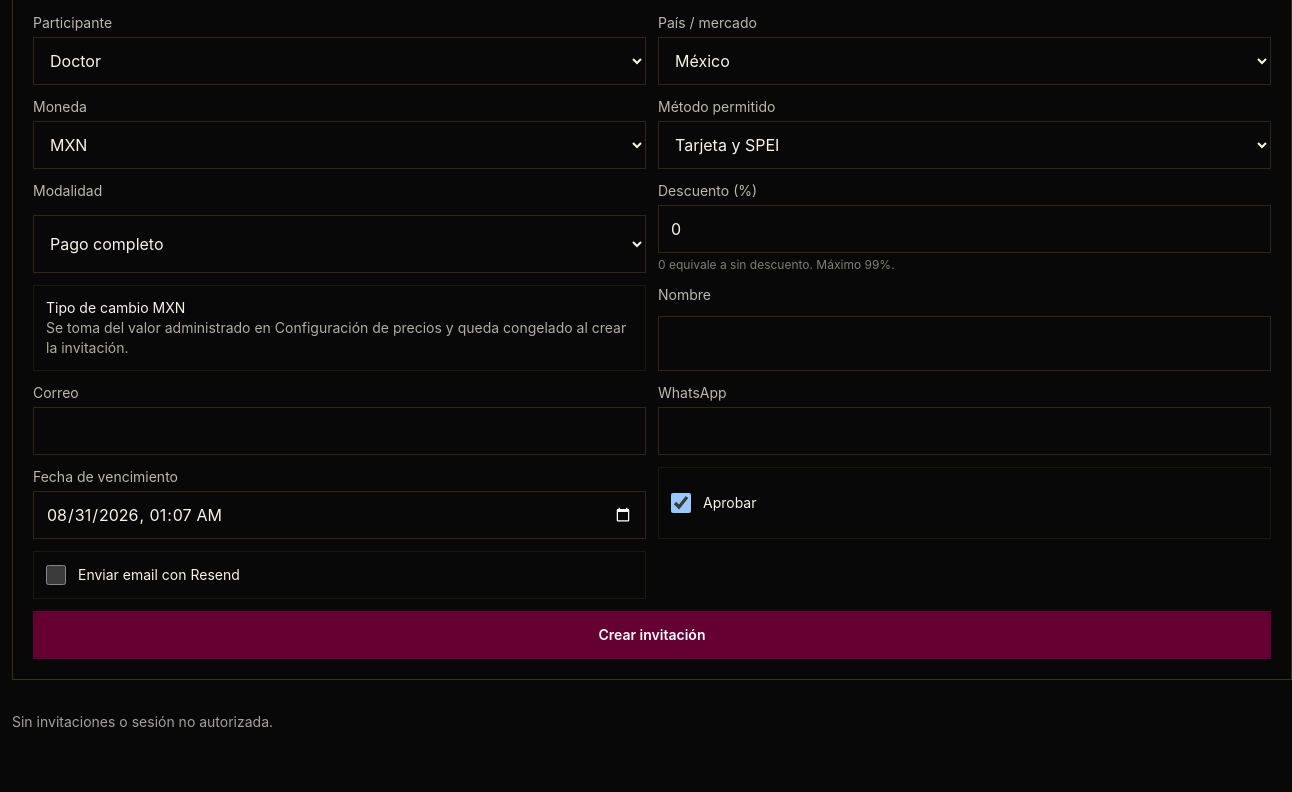
Test: admin components › conserva link cuando Resend falla
Type "Dra Test" into the field labelled "Nombre". click: (964, 344)
box: [658,316,1271,371]
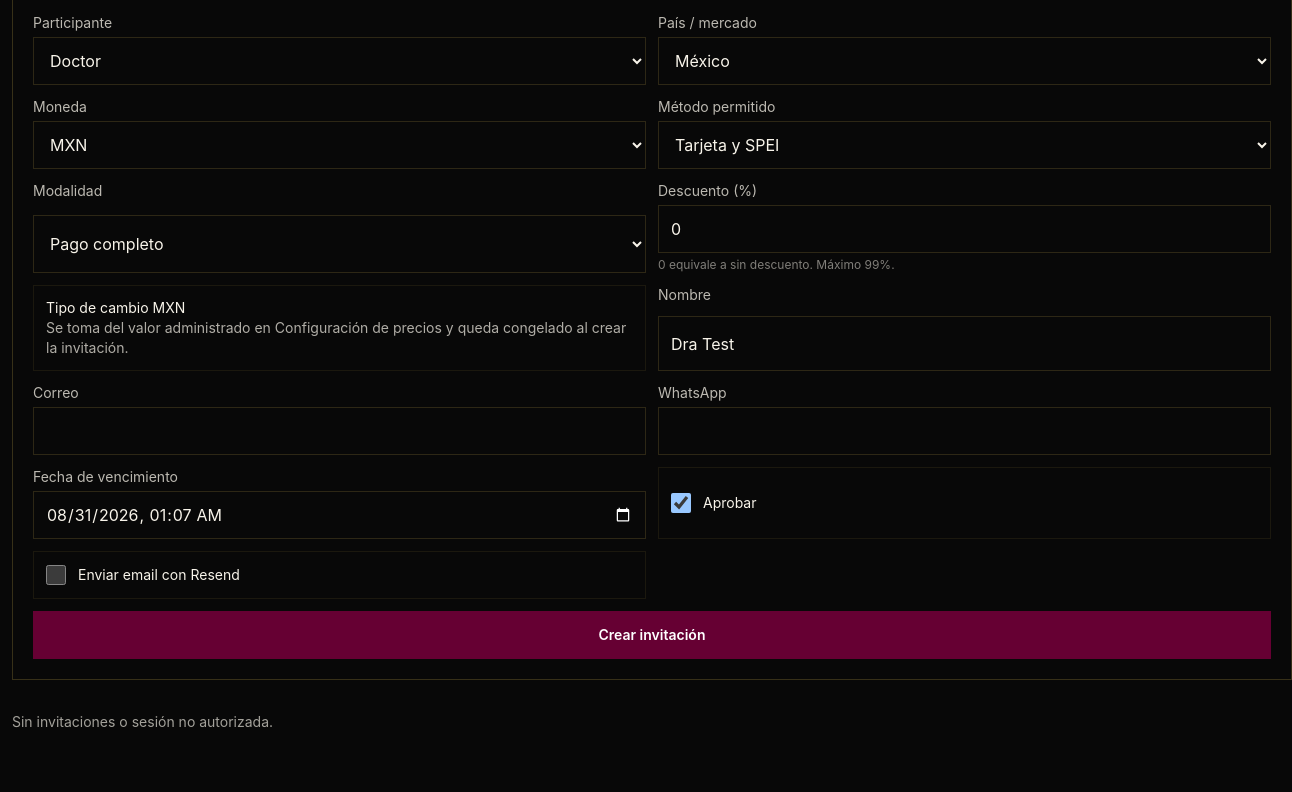
Type "yoanna@example.com" into the field labelled "Correo". click: (340, 431)
box: [33,407,646,455]
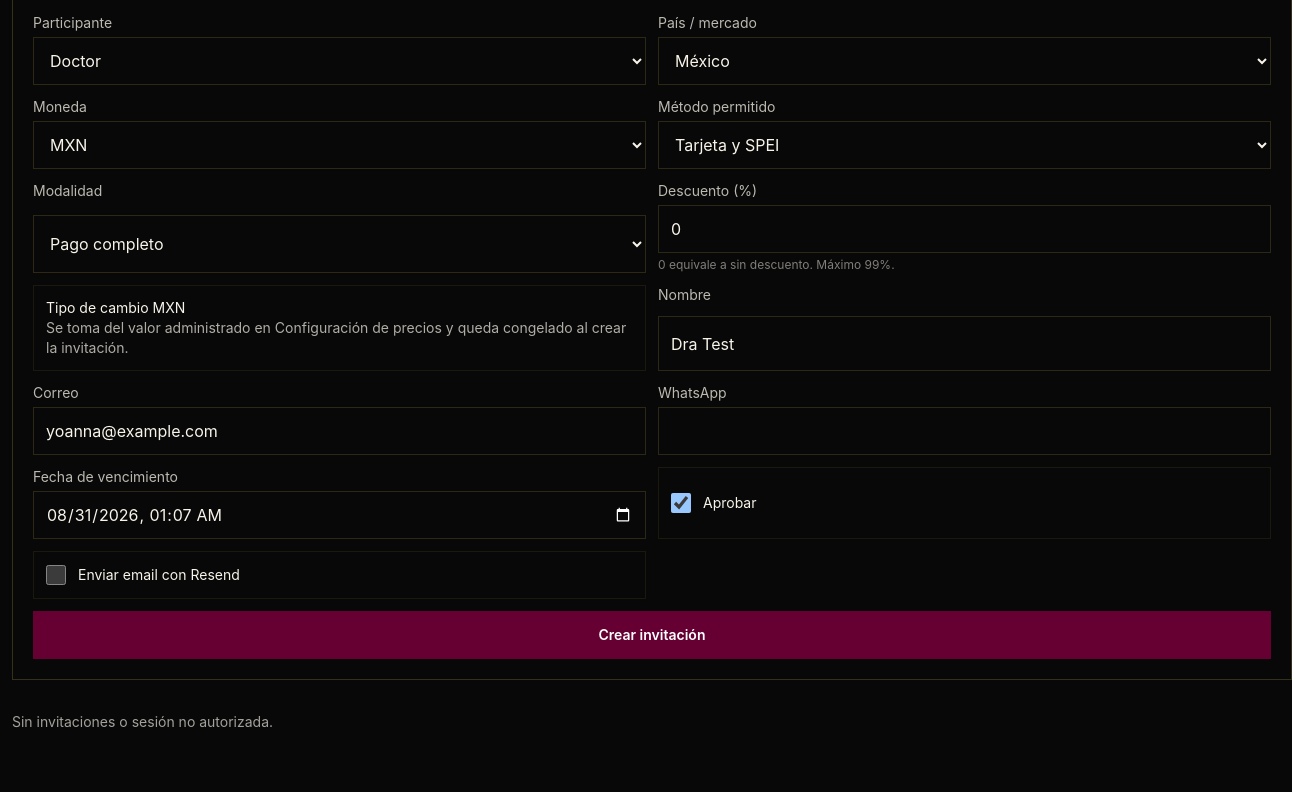
Click the checkbox labelled "Enviar email con Resend". click: (56, 575)
box: [46,565,66,585]
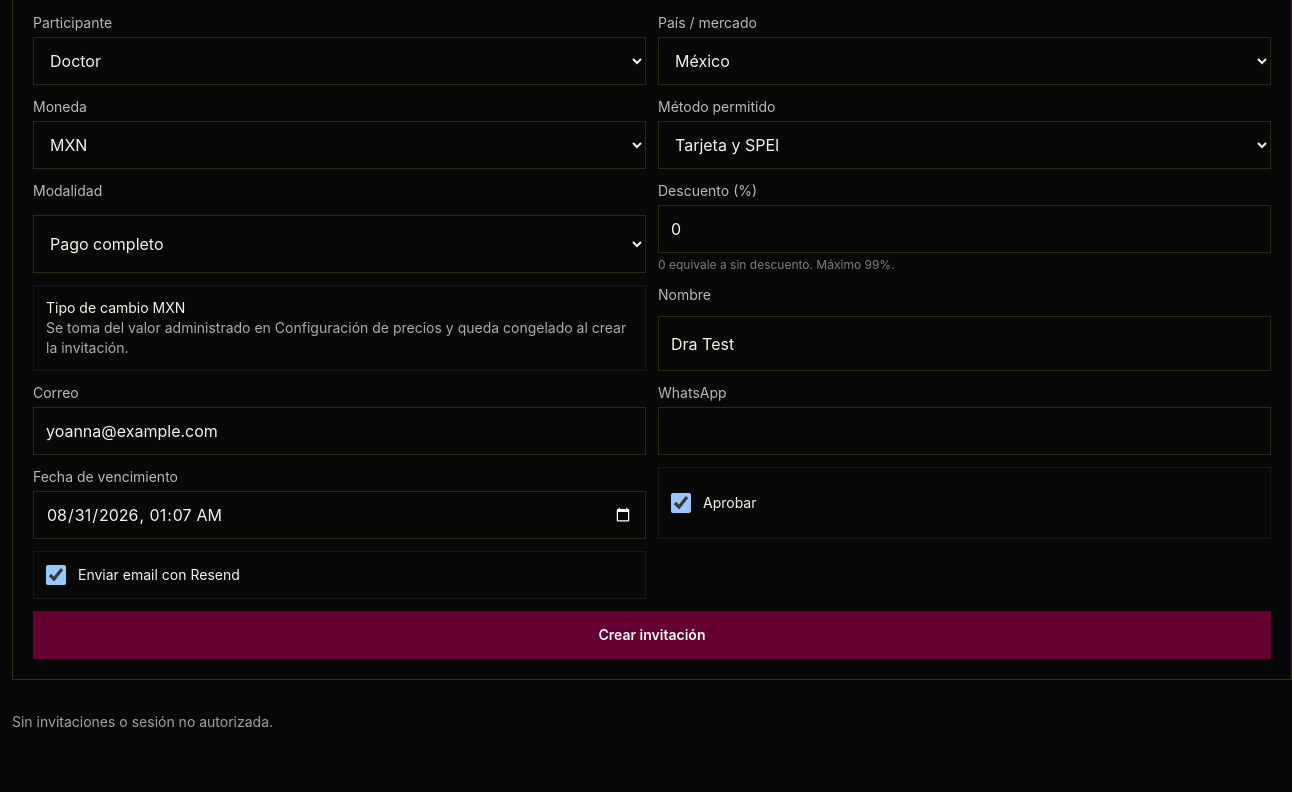
Click the button "Crear invitación". click: (652, 635)
box: [33,611,1271,659]
(page scrolled)
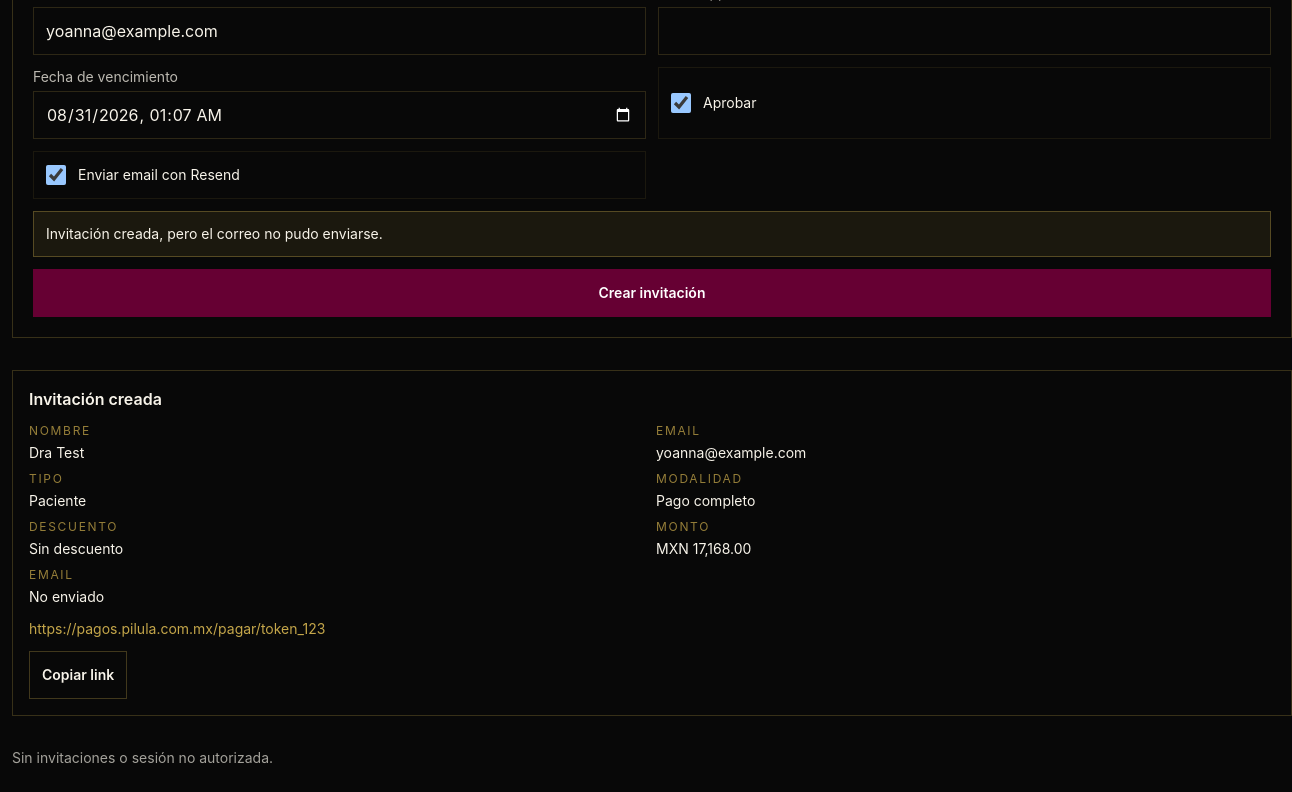
Expected: the text "Invitación creada, pero el correo no pudo enviarse." is shown, [33,211,1271,257]
Expected: the text "https://pagos.pilula.com.mx/pagar/token_123" is shown, [29,620,325,637]
